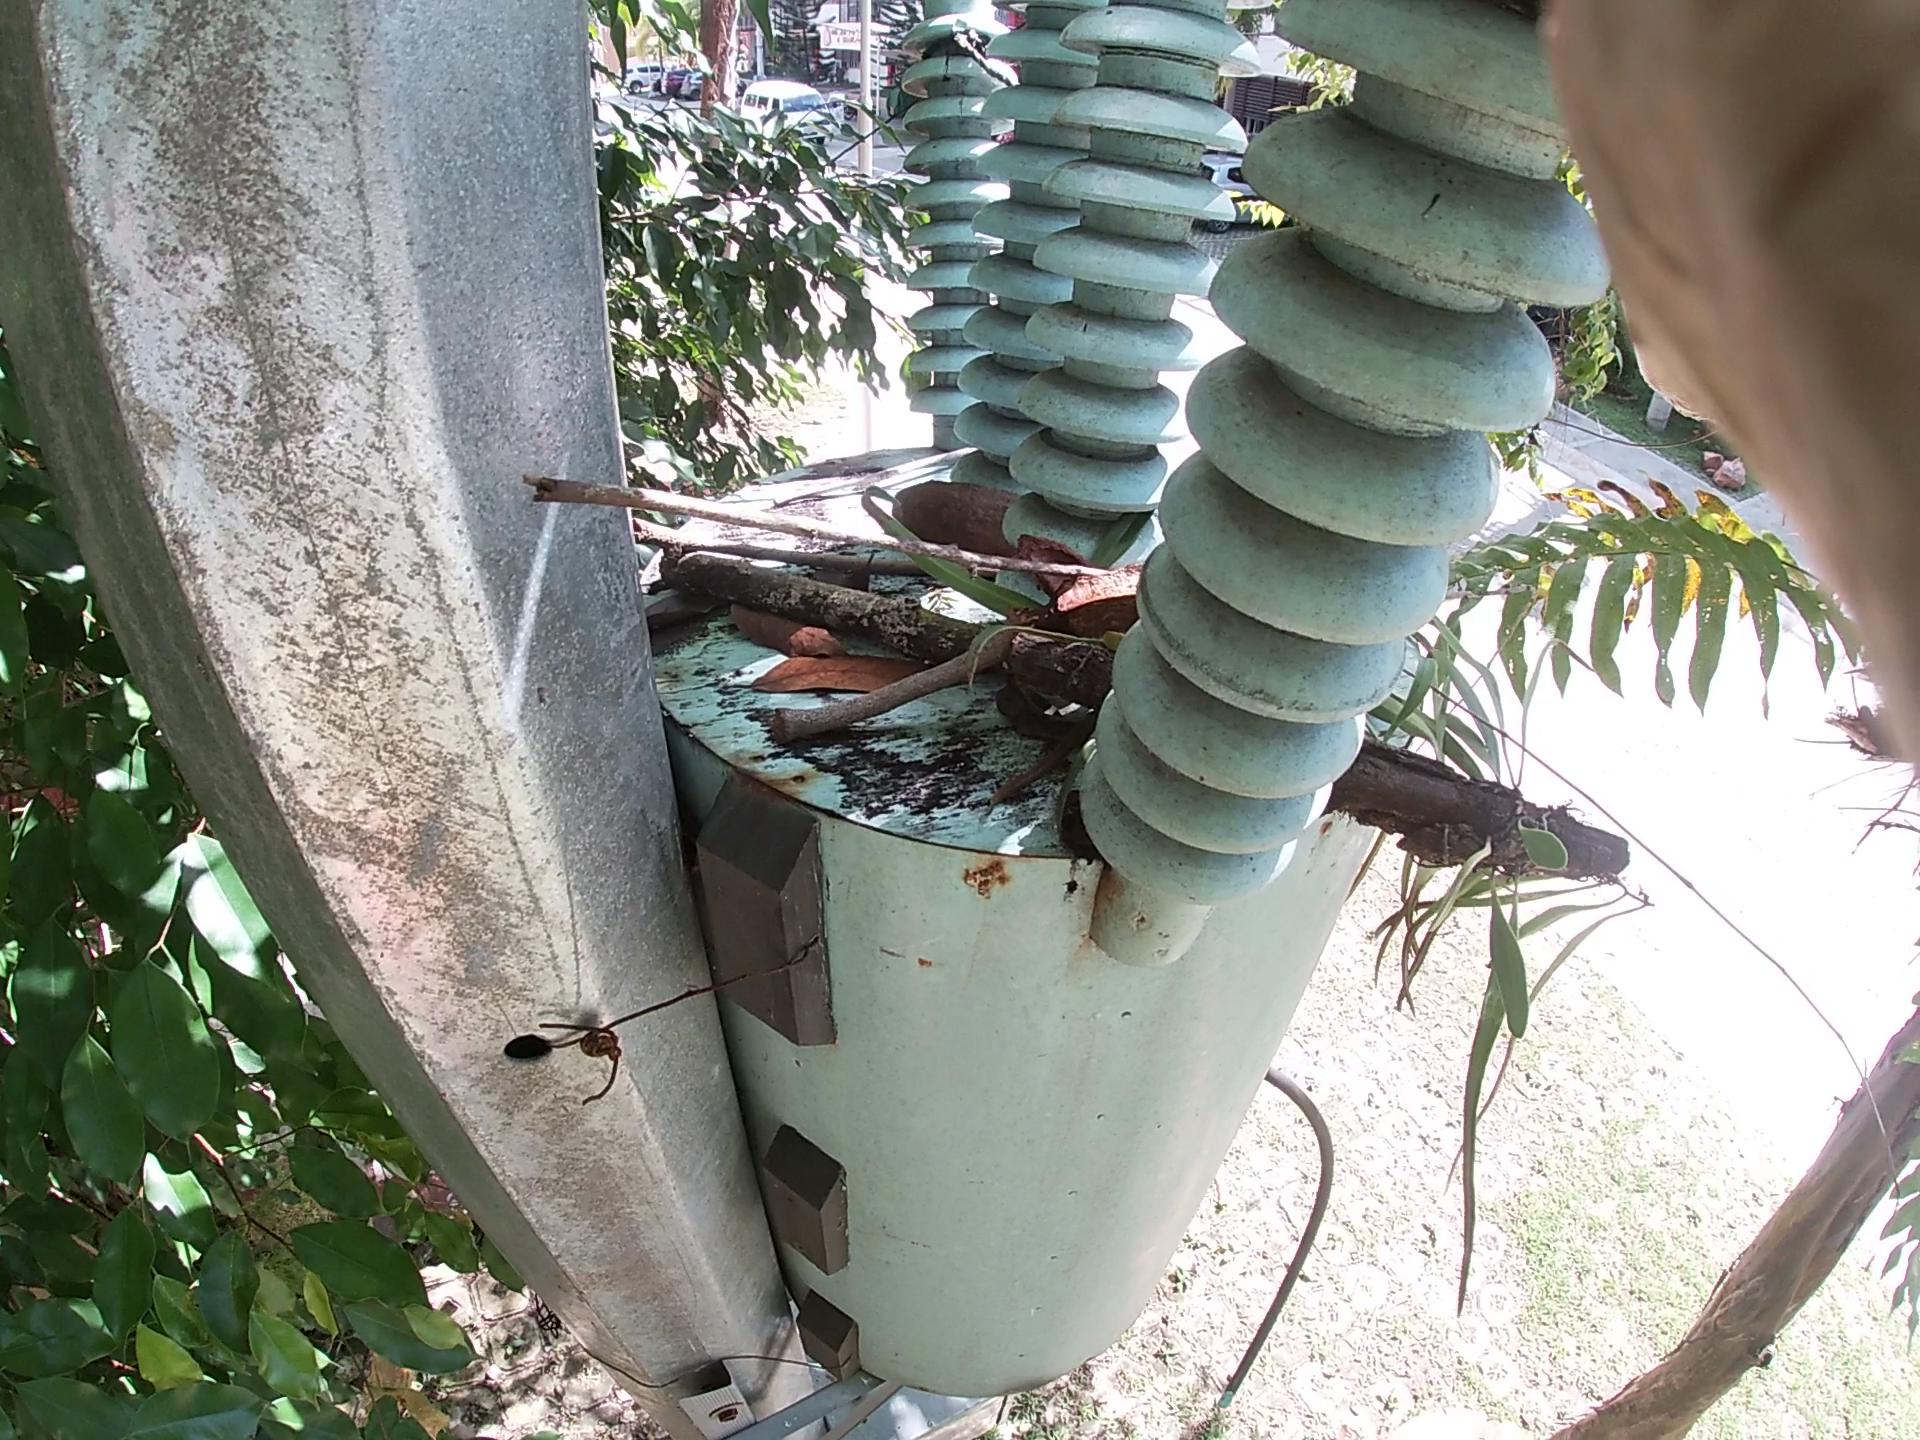branch with leaves: (674, 545, 1640, 944)
leaf: (748, 656, 928, 696), (733, 601, 844, 656)
mahogany fruit: (906, 449, 1175, 653)
tree branch: (522, 461, 1147, 593), (763, 629, 1048, 737), (624, 514, 943, 591)
